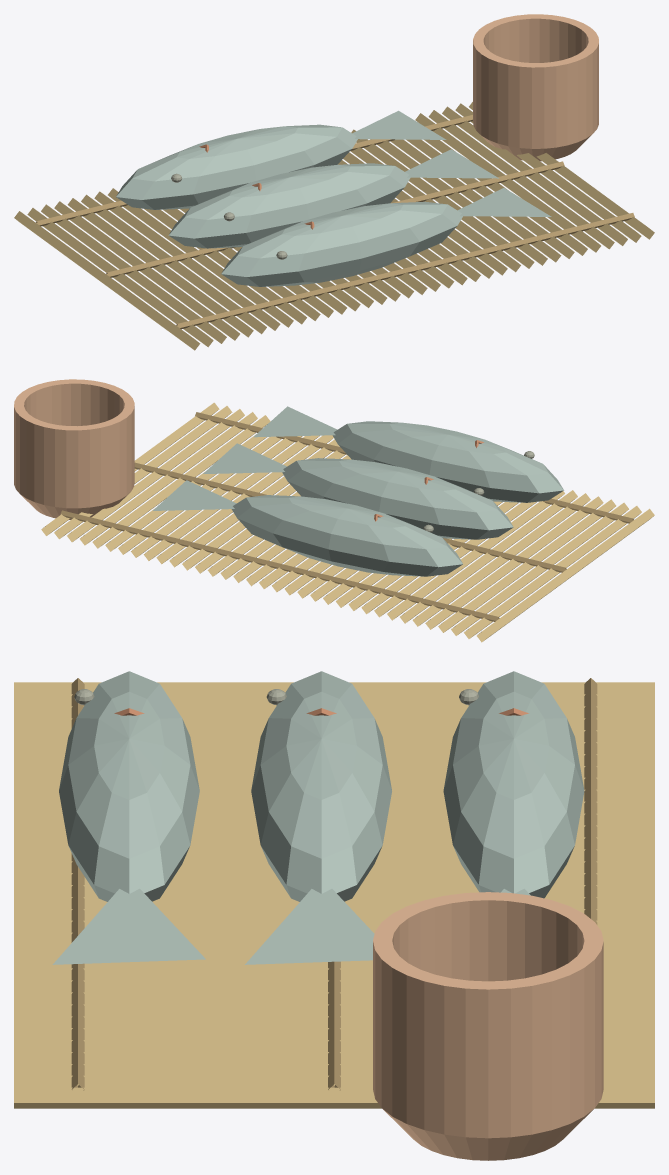
3 renders of one model, top to bottom at view 1: azimuth 30°, elevation 25°; view 2: azimuth 150°, elevation 25°; view 3: azimuth 270°, elevation 25°, orthographic. The views are drawn at different scales.
Visible parts, largest first — view 1: BA-0046 batched; view 2: BA-0046 batched; view 3: BA-0046 batched.
Part boxes in pixels (bbox=[...]): BA-0046 batched: bbox=[14, 14, 654, 350]; BA-0046 batched: bbox=[14, 379, 654, 642]; BA-0046 batched: bbox=[14, 671, 654, 1160].
Bounding box in the file's own units: 0.874 × 0.16 × 0.5.
